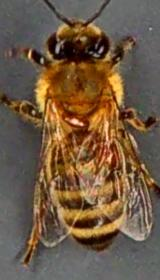varroa_mite: (56, 97, 94, 135), (96, 142, 124, 173)
